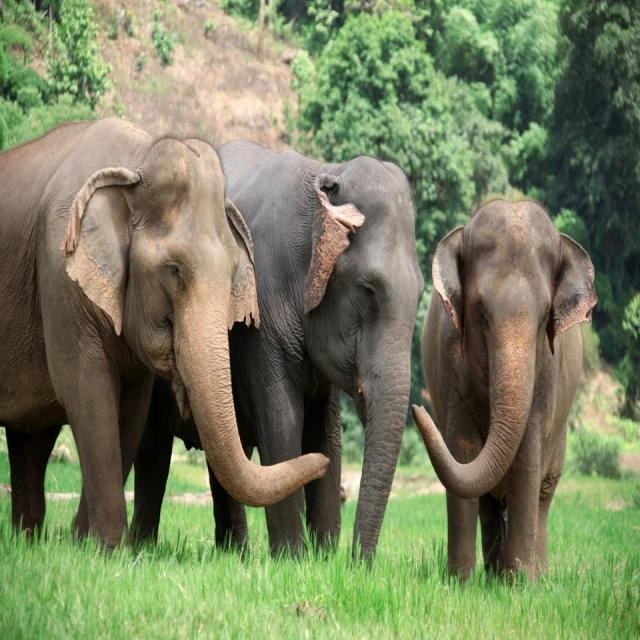Elephant: (0, 89, 286, 585), (212, 108, 424, 596), (402, 163, 604, 599)
